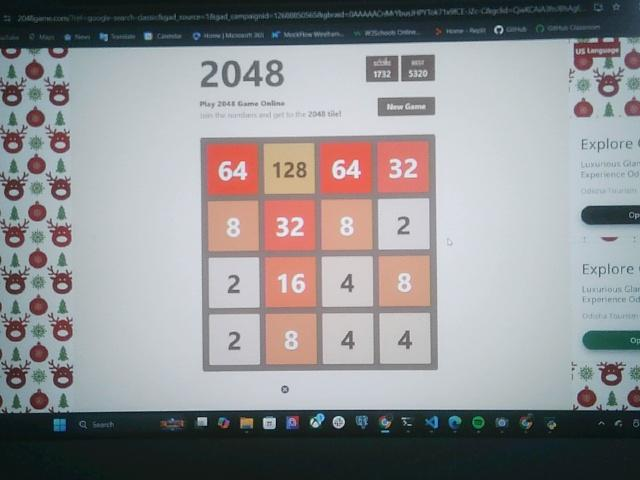board: (202, 137, 437, 372)
tile: (377, 141, 429, 193), (378, 199, 431, 250), (378, 313, 431, 364), (209, 257, 261, 308), (209, 314, 261, 365), (265, 143, 316, 194), (321, 143, 372, 194), (265, 200, 316, 251), (265, 257, 316, 308), (267, 315, 318, 366), (323, 313, 374, 364), (379, 257, 432, 306), (207, 144, 258, 194), (209, 200, 259, 251), (321, 200, 373, 249), (323, 256, 373, 306)
